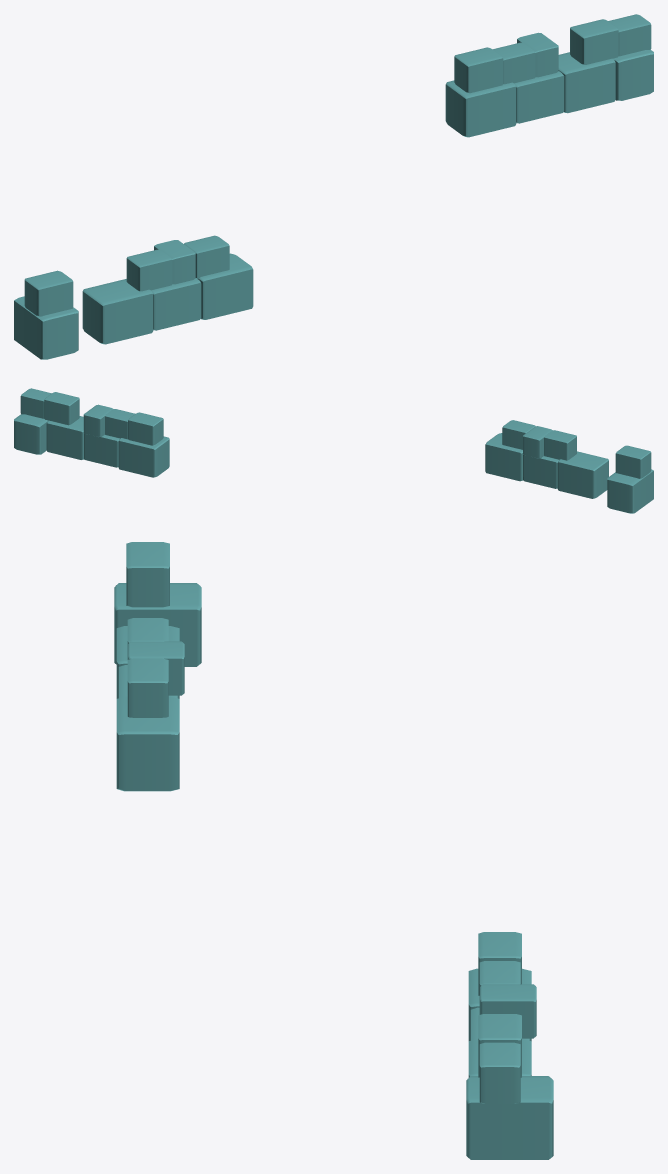
Rendered from wall.fbx.
The picture shows the model from 3 angles, top to bottom: view 1: azimuth 30°, elevation 25°; view 2: azimuth 150°, elevation 25°; view 3: azimuth 270°, elevation 25°; orthographic projection. The views are drawn at different scales.
Visible parts, largest first — view 1: wall, wall1, wall3; view 2: wall, wall1, wall3; view 3: wall, wall1, wall3.
Boxes of the visible parts, left/top/right/bottom form: wall: left=445, top=14, right=653, bottom=137; wall1: left=82, top=235, right=253, bottom=344; wall3: left=14, top=270, right=78, bottom=359; wall: left=14, top=388, right=169, bottom=477; wall1: left=485, top=420, right=608, bottom=498; wall3: left=607, top=445, right=653, bottom=513; wall: left=466, top=932, right=553, bottom=1159; wall1: left=116, top=618, right=184, bottom=791; wall3: left=114, top=542, right=201, bottom=666.
Bounding box in the file's own units: 0.000104 × 9.35e-06 × 3.7e-05.
